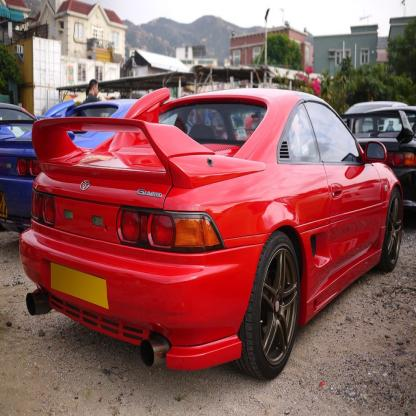Car: (19, 85, 404, 383), (1, 97, 178, 236), (346, 106, 416, 207)
